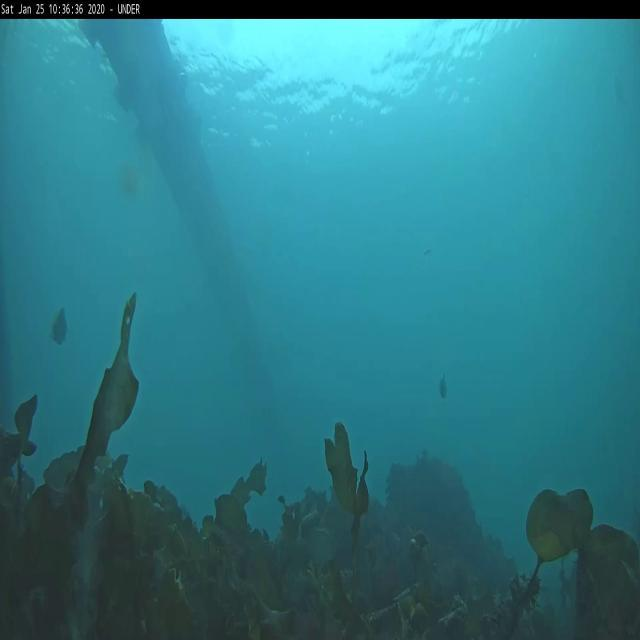fish: (50, 311, 66, 346), (436, 373, 449, 398)
